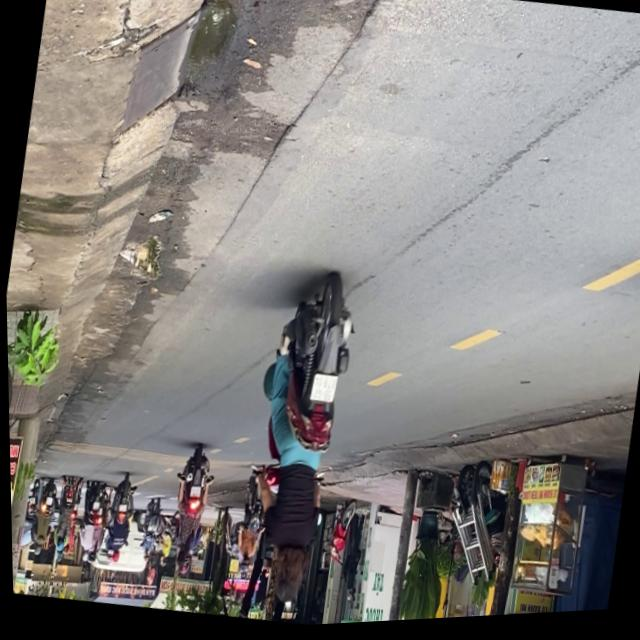licenseplate: (224, 271, 368, 626)
motorcyclist: (266, 547, 306, 611)
nohelmet: (308, 375, 337, 407)
